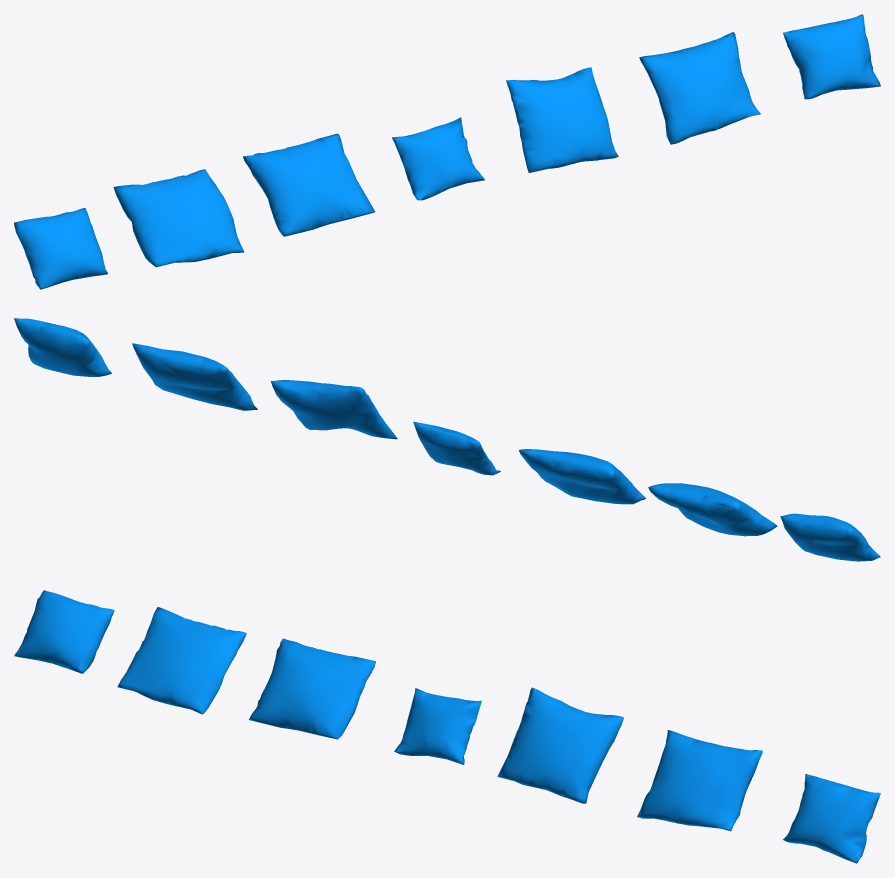
Rendered from Pillows.FBX.
3 renders of one model, top to bottom at view 1: azimuth 30°, elevation 25°; view 2: azimuth 150°, elevation 25°; view 3: azimuth 330°, elevation 25°, orthographic.
Parts seen in each view (by area): view 1: Object010, Object016, pillow014, Object012, Object002, Object015, Object017; view 2: Object012, pillow014, Object016, Object010, Object002, Object015, Object017; view 3: Object012, pillow014, Object010, Object016, Object002, Object015, Object017.
Part boxes in pixels (x1,y1,x2,y2): Object010: [113, 169, 244, 267]; Object016: [243, 133, 375, 236]; pillow014: [639, 32, 760, 144]; Object012: [506, 67, 618, 172]; Object002: [783, 14, 880, 99]; Object015: [14, 208, 107, 289]; Object017: [392, 117, 484, 200]; Object012: [271, 380, 397, 439]; pillow014: [132, 343, 257, 410]; Object016: [519, 449, 645, 504]; Object010: [648, 483, 777, 536]; Object002: [14, 318, 111, 376]; Object015: [780, 513, 880, 561]; Object017: [413, 421, 500, 475]; Object012: [497, 687, 623, 803]; pillow014: [637, 730, 762, 831]; Object010: [117, 607, 246, 714]; Object016: [249, 638, 376, 739]; Object002: [783, 774, 880, 863]; Object015: [14, 590, 114, 673]; Object017: [394, 688, 481, 764].
Size of the model in its own units: 6000 by 516 by 553.
